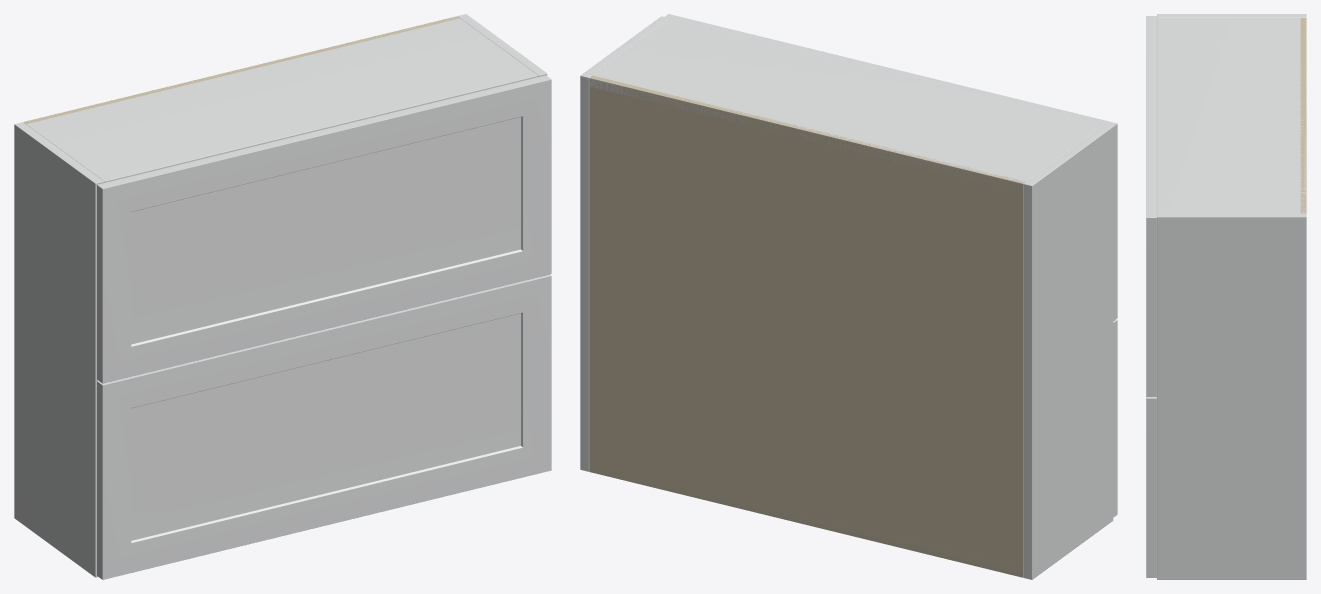
The model's file is PLY-WSS-WBF3630.glb.
3 views of the same model, side by side, from view 1: azimuth 30°, elevation 25°; view 2: azimuth 150°, elevation 25°; view 3: azimuth 270°, elevation 25° (orthographic). The views are drawn at different scales.
Visible parts, largest first — view 1: Shaker door.001, Shaker door, Carcass top, Carcass left, Carcass back, Carcass right; view 2: Carcass back, Carcass left, Carcass top, Carcass right, Carcass bottom, Shaker door.001, Shaker door; view 3: Carcass right, Carcass top, Shaker door.001, Shaker door, Carcass back, Carcass left.
Boxes of the visible parts, x1=… form: Shaker door.001: x1=97, y1=75, x2=551, y2=383; Shaker door: x1=97, y1=274, x2=551, y2=579; Carcass top: x1=24, y1=16, x2=538, y2=182; Carcass left: x1=14, y1=122, x2=104, y2=577; Carcass back: x1=23, y1=16, x2=459, y2=124; Carcass right: x1=458, y1=14, x2=547, y2=76; Carcass back: x1=589, y1=75, x2=1026, y2=577; Carcass left: x1=1023, y1=124, x2=1113, y2=579; Carcass top: x1=589, y1=18, x2=1103, y2=188; Carcass right: x1=580, y1=16, x2=669, y2=471; Carcass bottom: x1=589, y1=463, x2=1023, y2=577; Shaker door.001: x1=665, y1=14, x2=1117, y2=320; Shaker door: x1=1113, y1=319, x2=1117, y2=517; Carcass right: x1=1157, y1=213, x2=1306, y2=579; Carcass top: x1=1157, y1=18, x2=1306, y2=213; Shaker door.001: x1=1146, y1=16, x2=1156, y2=396; Shaker door: x1=1146, y1=397, x2=1156, y2=577; Carcass back: x1=1300, y1=18, x2=1306, y2=213; Carcass left: x1=1157, y1=14, x2=1306, y2=17.
Size of the model in its own units: 0.9144 by 0.762 by 0.3048.
